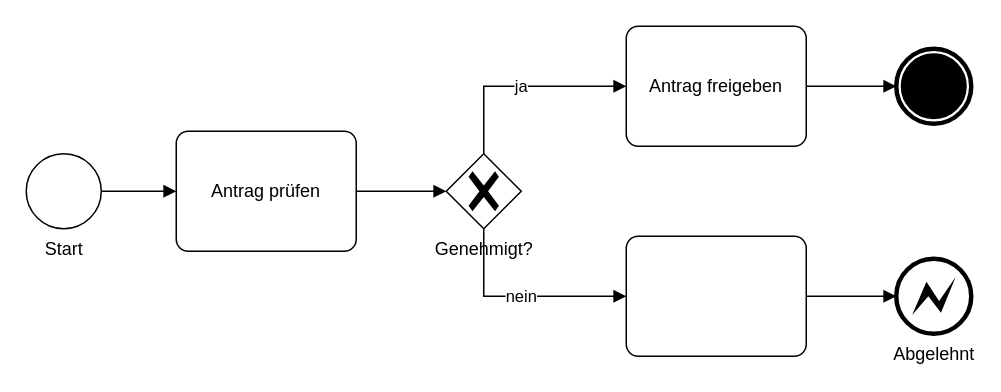
This 1001x392 diagram has some shape labels left out. The box of each missing label's shape, as (x1, y1, x2, y2) in pixels:
Antrag ablehnen: (625, 235, 806, 356)
Erledigt: (895, 47, 971, 124)
